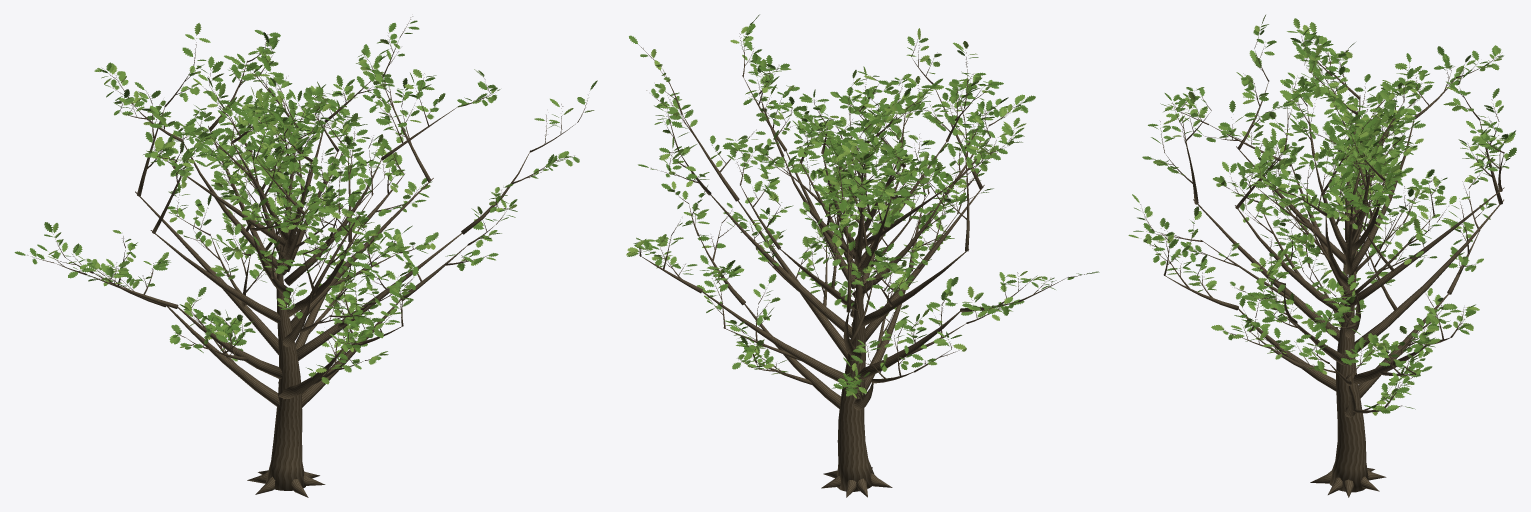
Rendered from Sessile_Oak_Mature_01_LOD1.fbx.
3 renders of one model, left to right at view 1: azimuth 30°, elevation 25°; view 2: azimuth 150°, elevation 25°; view 3: azimuth 270°, elevation 25°, orthographic. The views are drawn at different scales.
Visible parts, largest first — view 1: Sessile_Oak_Mature_01_Foliage_LOD1, Sessile_Oak_Mature_01_Bark_LOD1; view 2: Sessile_Oak_Mature_01_Foliage_LOD1, Sessile_Oak_Mature_01_Bark_LOD1; view 3: Sessile_Oak_Mature_01_Foliage_LOD1, Sessile_Oak_Mature_01_Bark_LOD1.
Part boxes in pixels (box(x1,y1,x2,y2)): Sessile_Oak_Mature_01_Foliage_LOD1: box(14, 20, 597, 384); Sessile_Oak_Mature_01_Bark_LOD1: box(27, 16, 588, 497); Sessile_Oak_Mature_01_Foliage_LOD1: box(626, 14, 1099, 398); Sessile_Oak_Mature_01_Bark_LOD1: box(638, 24, 1087, 497); Sessile_Oak_Mature_01_Foliage_LOD1: box(1128, 15, 1516, 415); Sessile_Oak_Mature_01_Bark_LOD1: box(1140, 33, 1508, 497).
Bounding box in the file's own units: 2516 × 2000 × 1614.
Materials: 5 (1 with a texture image).
